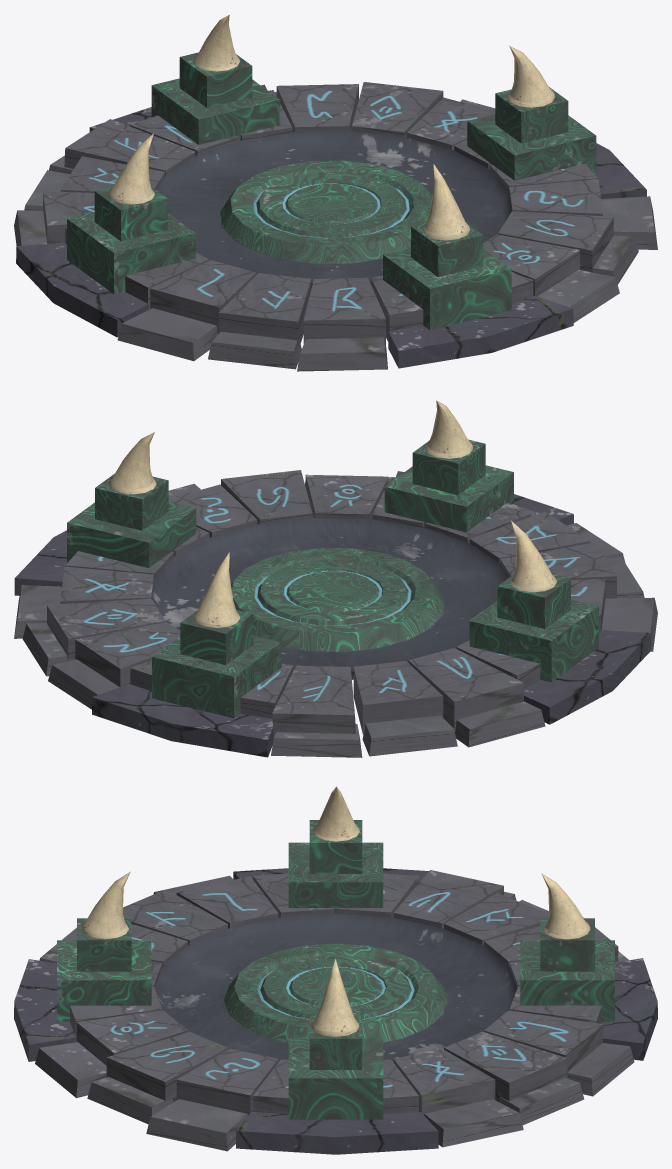
3 views of the same model, one above another, from view 1: azimuth 30°, elevation 25°; view 2: azimuth 150°, elevation 25°; view 3: azimuth 270°, elevation 25° (orthographic).
Visible parts, largest first — view 1: Upper_Bricks1, Bone_Pillars, polySurface31; view 2: Upper_Bricks1, Bone_Pillars, polySurface31; view 3: Upper_Bricks1, Bone_Pillars, polySurface31.
Part boxes in pixels (x1,y1,x2,y2): Upper_Bricks1: (14, 82, 657, 371); Bone_Pillars: (16, 14, 646, 368); polySurface31: (156, 131, 511, 288); Upper_Bricks1: (14, 470, 657, 757); Bone_Pillars: (14, 400, 651, 757); polySurface31: (151, 518, 508, 679); Upper_Bricks1: (35, 870, 634, 1151); Bone_Pillars: (14, 786, 657, 1154); polySurface31: (154, 913, 517, 1062).
Bounding box in the file's own units: 20.72 × 5.32 × 20.72.
Materials: 3 (3 with a texture image).
